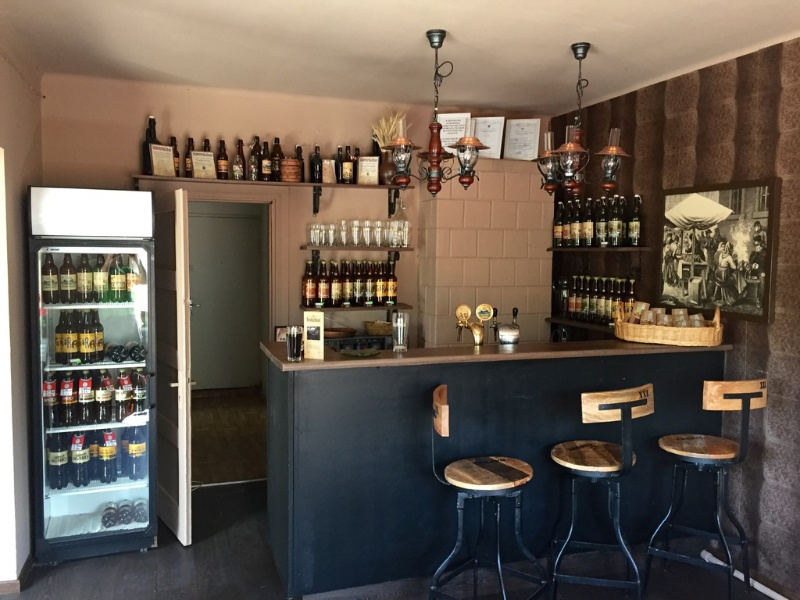wine: (36, 245, 152, 529), (137, 108, 418, 188), (543, 189, 644, 329), (296, 219, 416, 313)
